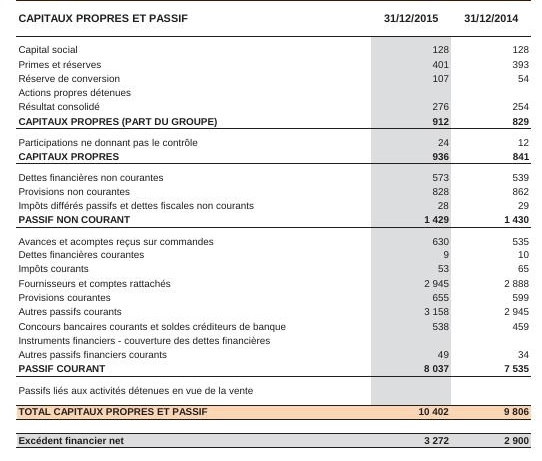table: (0, 0, 542, 461)
